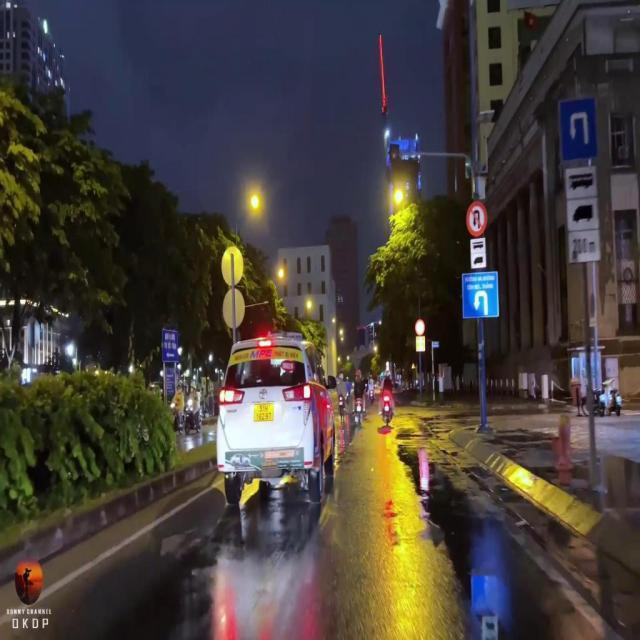124a-cam-quay-dau-xe: (466, 200, 488, 236)
